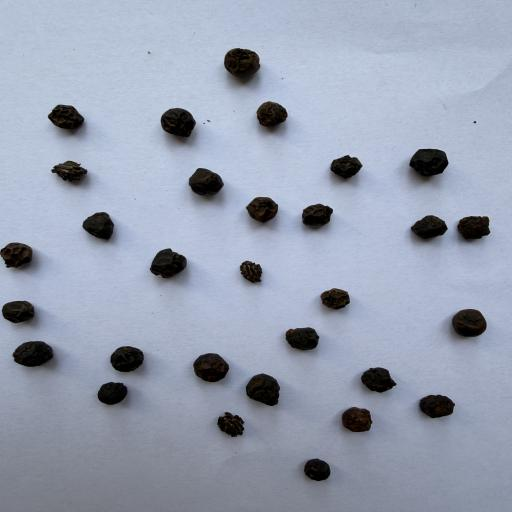Black_pepper: (78, 336, 166, 378), (164, 339, 238, 387), (0, 326, 59, 382), (437, 300, 498, 346), (293, 450, 342, 491), (414, 390, 464, 429), (275, 319, 329, 355), (352, 360, 406, 395), (245, 374, 294, 410), (336, 406, 382, 444), (90, 378, 140, 412), (316, 278, 360, 314), (148, 247, 190, 279), (223, 46, 262, 78), (161, 106, 200, 138), (242, 192, 282, 223), (410, 148, 450, 178), (189, 167, 227, 197), (300, 201, 339, 230), (46, 104, 87, 130), (455, 214, 493, 242), (81, 211, 116, 241), (0, 298, 39, 324), (410, 214, 449, 239), (256, 100, 288, 127), (0, 240, 33, 266), (328, 154, 363, 178)
papaya_seed: (18, 152, 122, 198), (227, 249, 303, 297), (212, 408, 246, 446)
